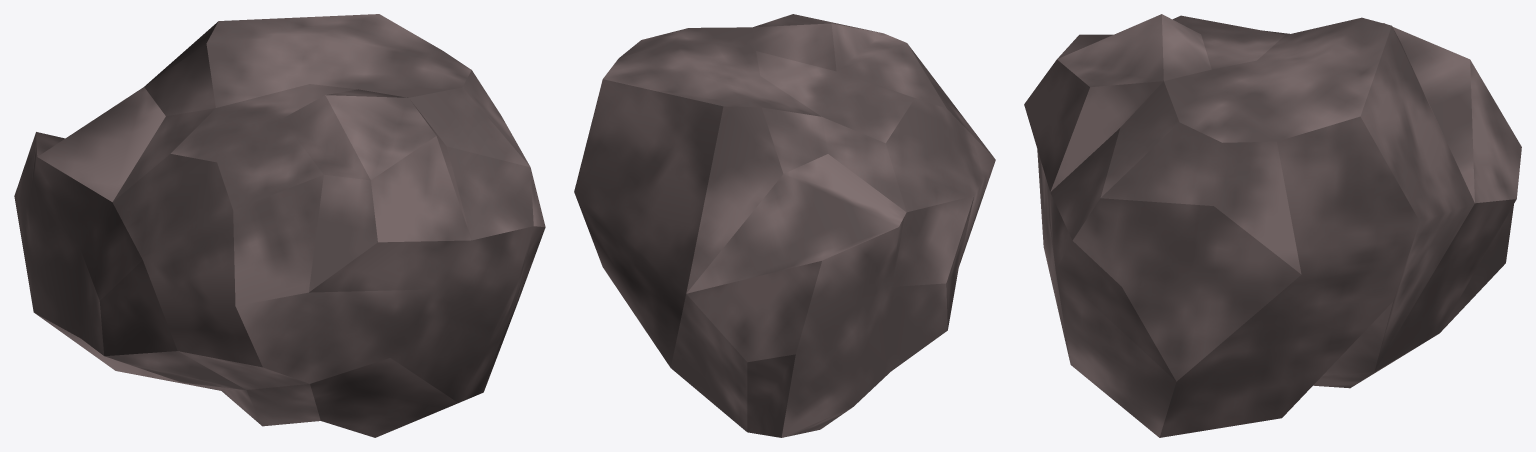
The model's file is MeteorMed.fbx.
3 renders of one model, left to right at view 1: azimuth 30°, elevation 25°; view 2: azimuth 150°, elevation 25°; view 3: azimuth 270°, elevation 25°, orthographic. The views are drawn at different scales.
Visible parts, largest first — view 1: pasted__pCube1; view 2: pasted__pCube1; view 3: pasted__pCube1.
Part boxes in pixels (bbox=[...]): pasted__pCube1: bbox=[14, 14, 545, 437]; pasted__pCube1: bbox=[574, 14, 995, 437]; pasted__pCube1: bbox=[1024, 14, 1521, 437].
Size of the model in its own units: 2.51 by 2.28 by 2.75.
